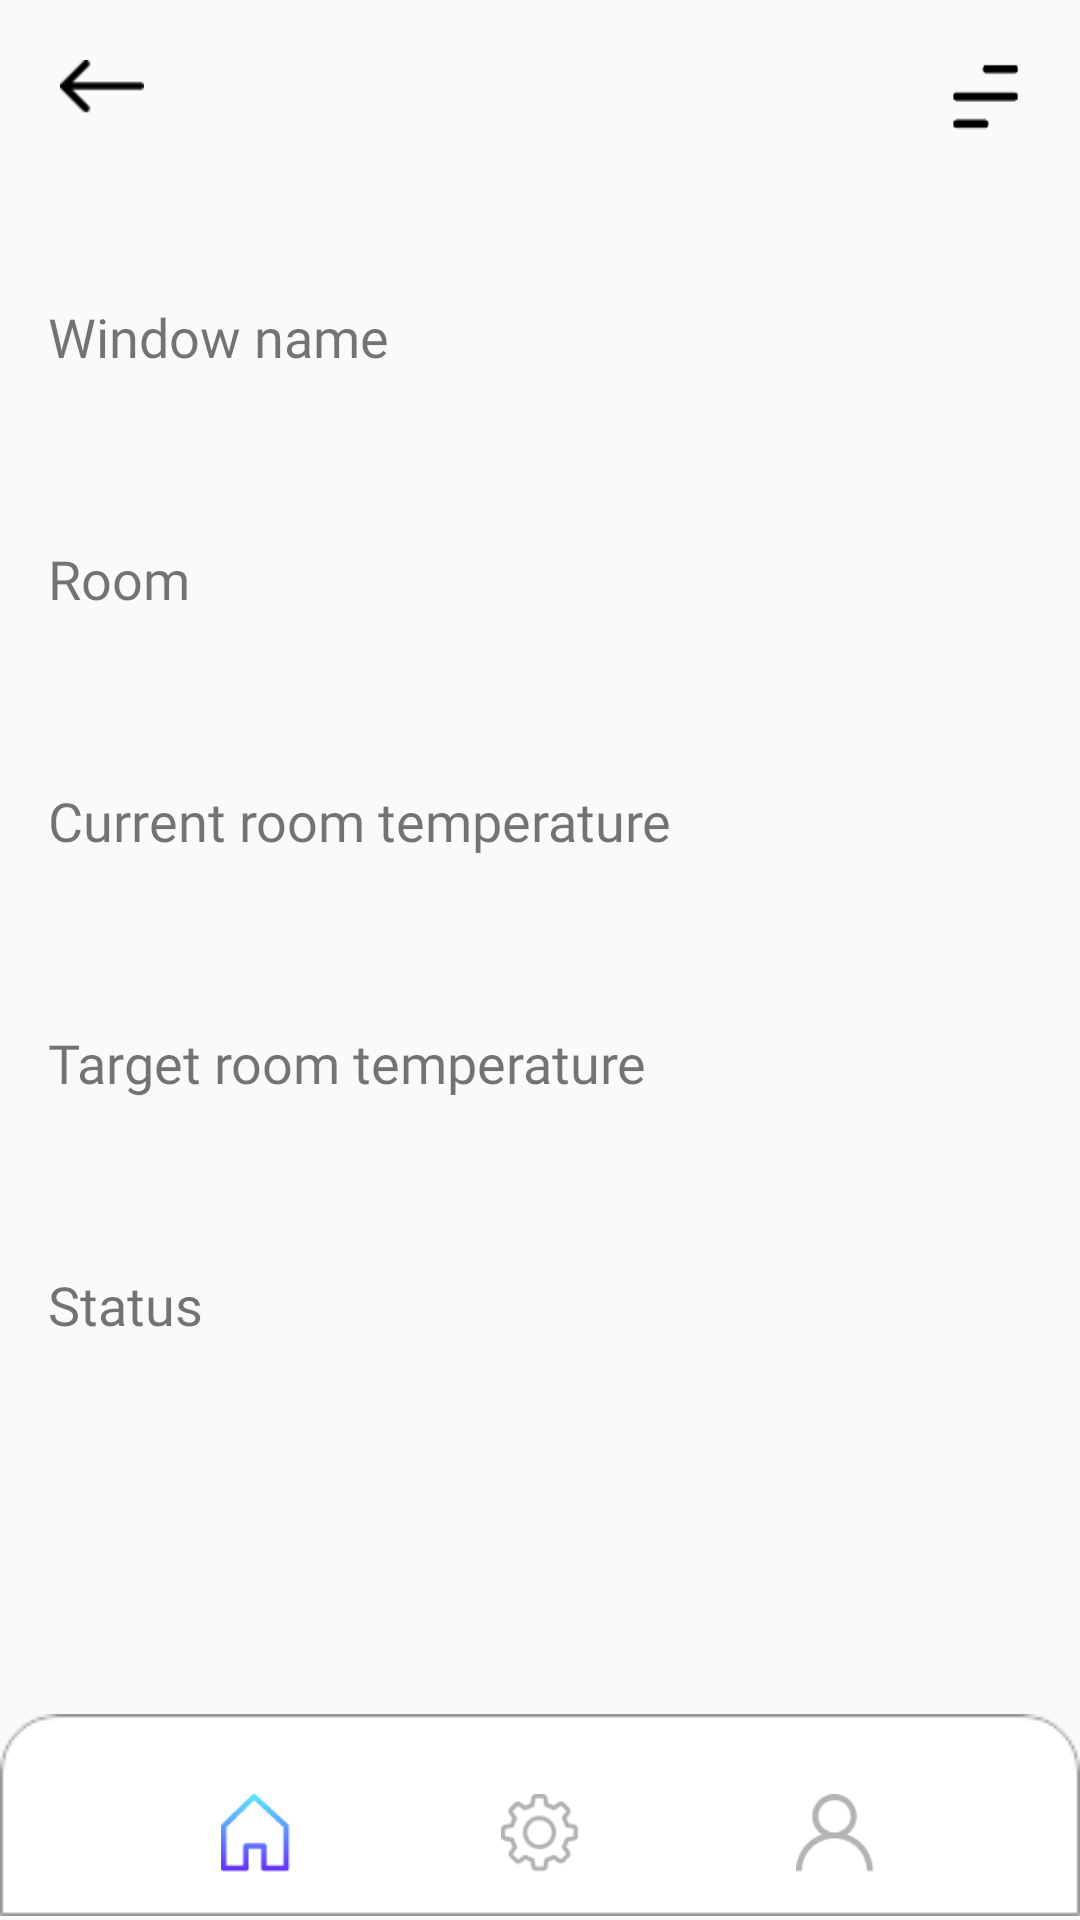

Icon click points for this 1080x1920 phone screenshot, format (x=x, y=y):
home: (x=255, y=1833)
left arrow: (x=102, y=86)
settings: (x=539, y=1832)
user: (x=834, y=1832)
